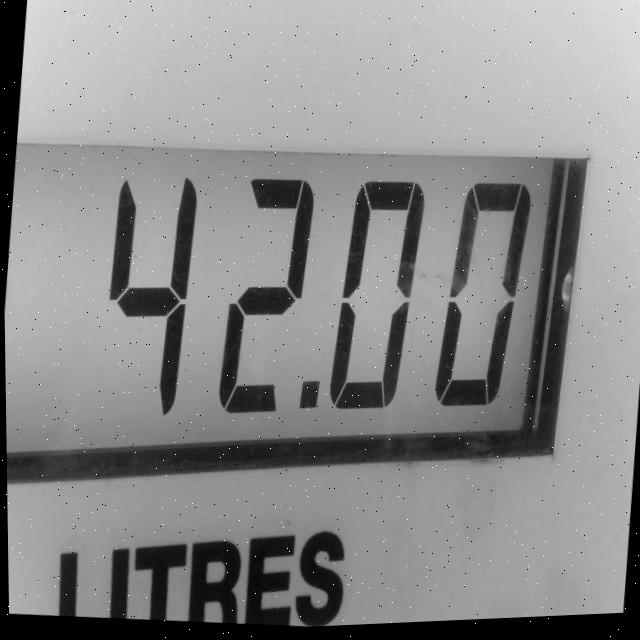.: (206, 170, 320, 427), (279, 364, 331, 438)
0: (418, 178, 550, 427), (307, 175, 431, 419)
4: (71, 151, 215, 435)
